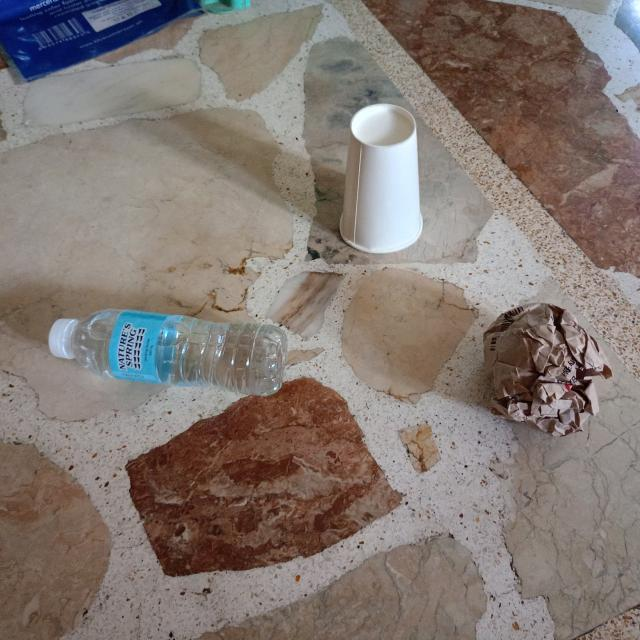recyclable waste: (35, 296, 298, 415), (474, 289, 616, 447), (328, 94, 436, 270)
